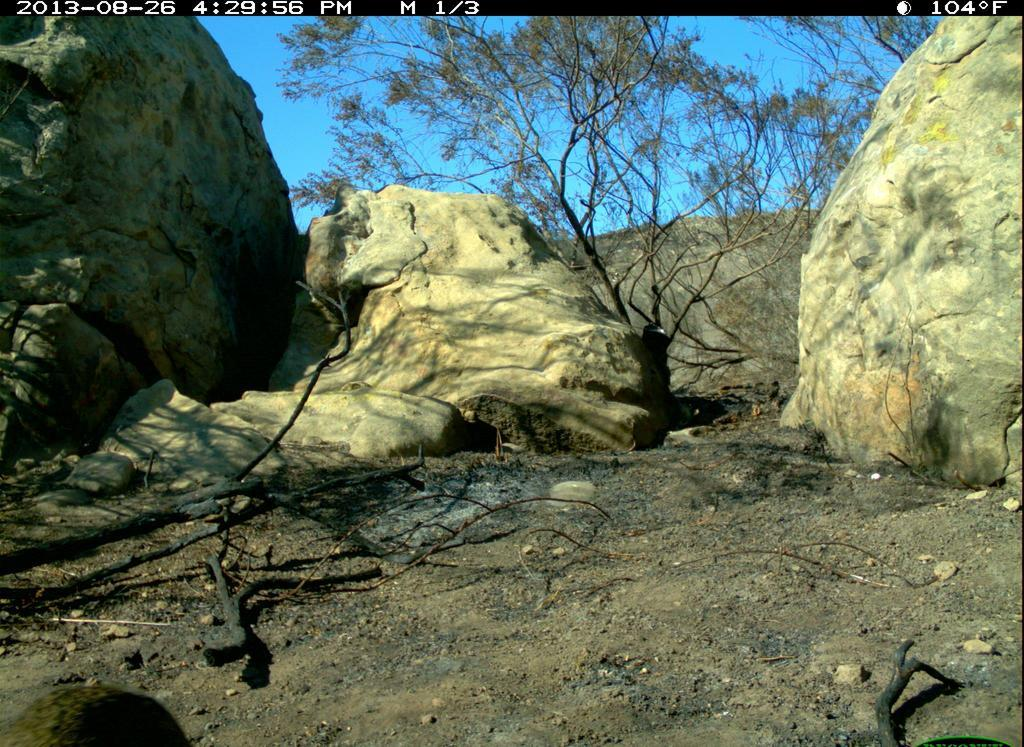rabbit: (8, 671, 219, 747)
